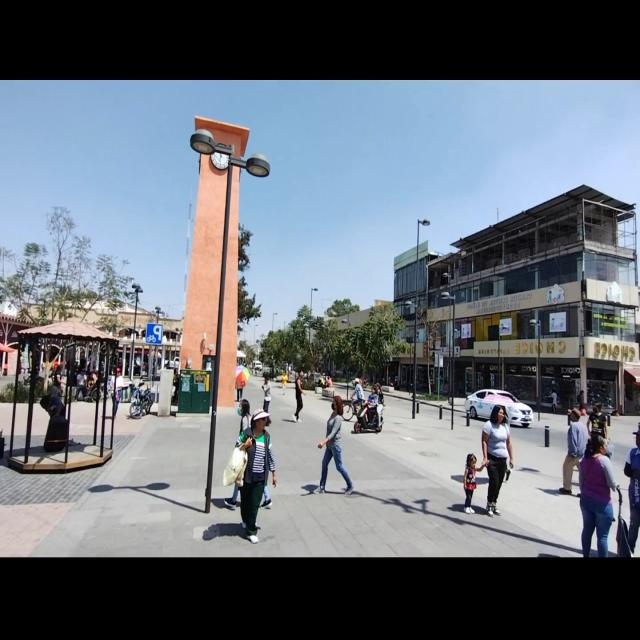adult: (223, 398, 272, 512), (236, 411, 277, 544), (580, 433, 623, 557), (312, 396, 354, 496), (482, 404, 513, 516), (559, 407, 587, 495), (624, 428, 640, 558), (358, 383, 384, 429), (587, 399, 609, 442), (292, 369, 308, 422), (110, 367, 125, 417), (350, 378, 364, 416), (262, 376, 273, 410)
child: (463, 452, 487, 514)
